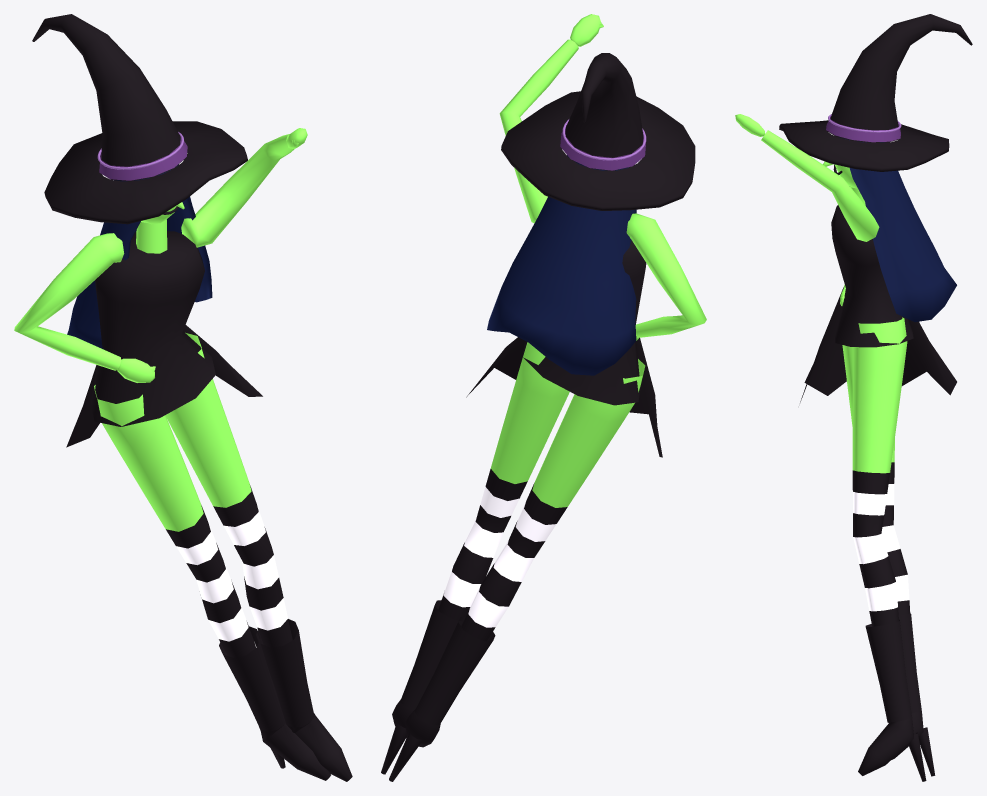
File: witch_happy_sway.glb
3 renders of one model, left to right at view 1: azimuth 30°, elevation 25°; view 2: azimuth 150°, elevation 25°; view 3: azimuth 270°, elevation 25°, orthographic. The views are drawn at different scales.
Parts seen in each view (by area): view 1: HWG_WitchHappy_sway; view 2: HWG_WitchHappy_sway; view 3: HWG_WitchHappy_sway.
Part boxes in pixels (bbox=[...]): HWG_WitchHappy_sway: bbox=[14, 14, 352, 781]; HWG_WitchHappy_sway: bbox=[381, 14, 706, 781]; HWG_WitchHappy_sway: bbox=[735, 14, 972, 781].
Bounding box in the file's own units: 0.55 × 1.3 × 0.4158.
